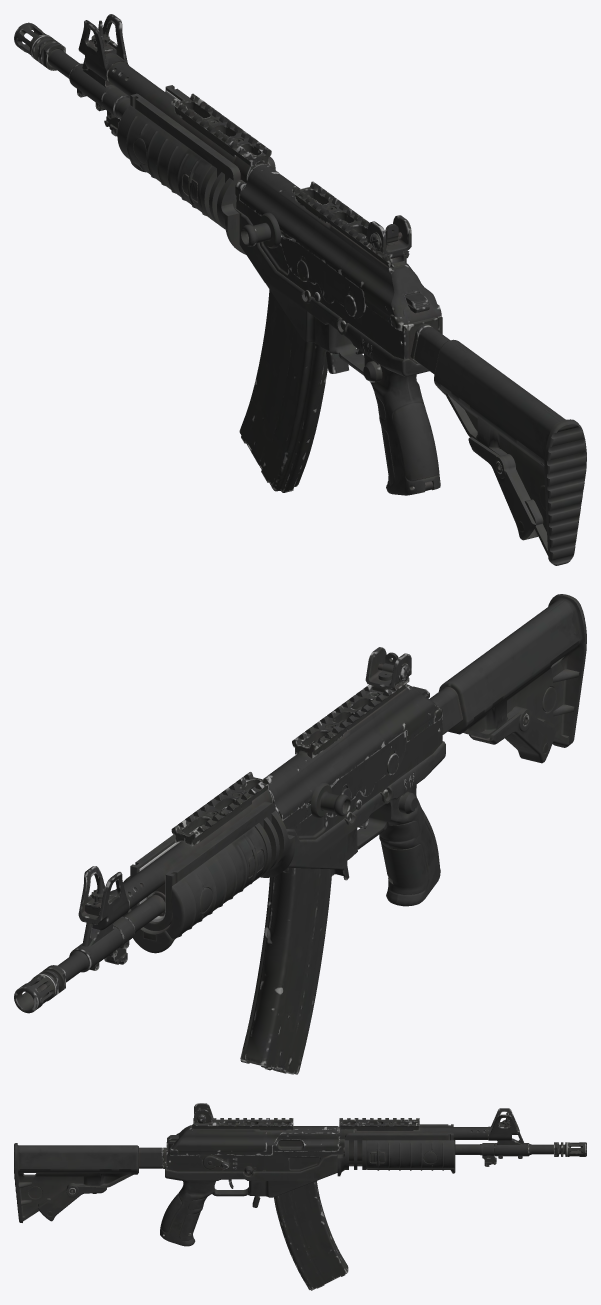
Rendered from galil.glb.
The picture shows the model from 3 angles, top to bottom: view 1: azimuth 30°, elevation 25°; view 2: azimuth 150°, elevation 25°; view 3: azimuth 270°, elevation 25°; orthographic projection. The views are drawn at different scales.
Parts seen in each view (by area): view 1: GalilAr_CS2; view 2: GalilAr_CS2; view 3: GalilAr_CS2.
Part boxes in pixels (x1,y1,x2,y2): GalilAr_CS2: [14, 14, 586, 565]; GalilAr_CS2: [14, 594, 586, 1074]; GalilAr_CS2: [14, 1103, 586, 1290].
Size of the model in its own units: 0.0883 by 0.3403 by 0.97.
Materials: 1 (1 with a texture image).
